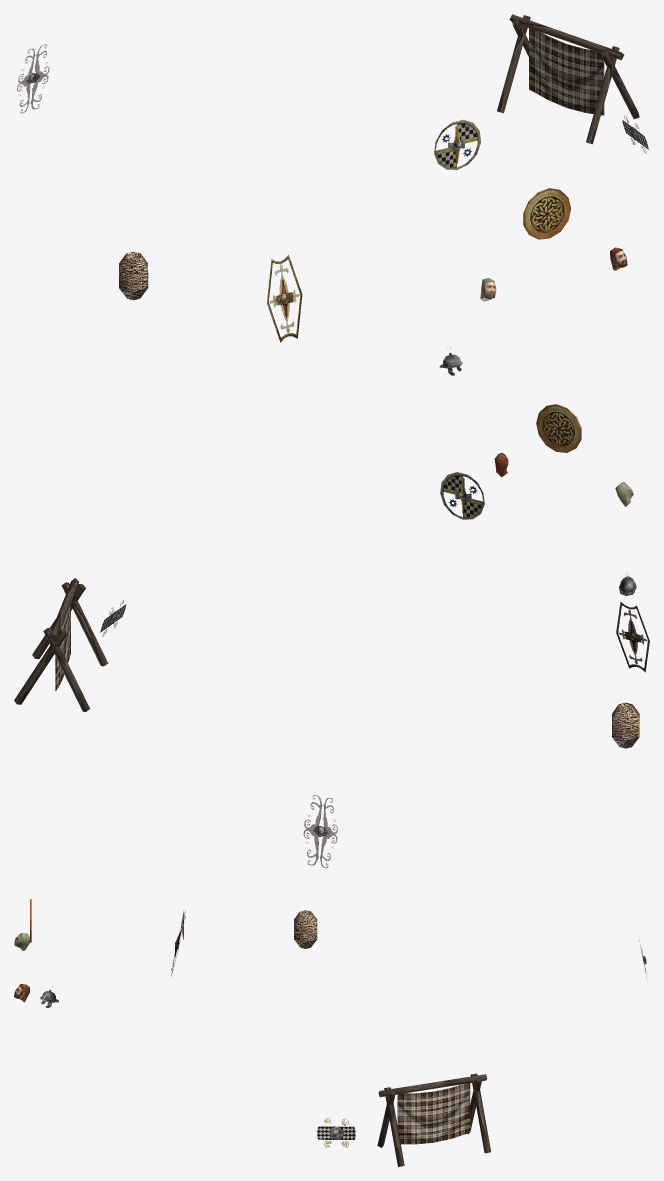
File: celt_civic3_props_new.dae
3 renders of one model, top to bottom at view 1: azimuth 30°, elevation 25°; view 2: azimuth 150°, elevation 25°; view 3: azimuth 270°, elevation 25°, orthographic. The views are drawn at different scales.
Parts seen in each view (by area): view 1: celt_port_agen02-Pivot; view 2: celt_port_agen02-Pivot; view 3: celt_port_agen02-Pivot.
Part boxes in pixels (x1,y1,x2,y2): celt_port_agen02-Pivot: [17, 14, 648, 375]; celt_port_agen02-Pivot: [14, 404, 649, 868]; celt_port_agen02-Pivot: [14, 899, 647, 1166].
Size of the model in its own units: 20.97 by 24.86 by 6.19.
